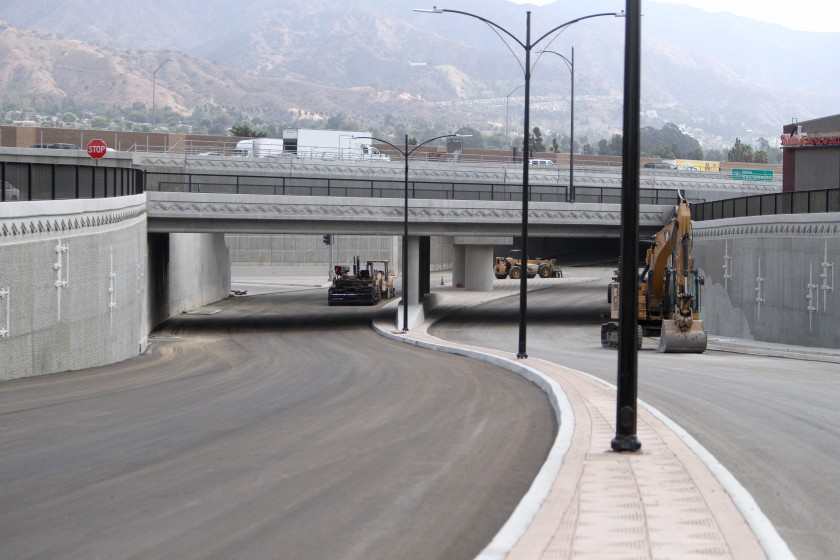bridge: (1, 143, 787, 239)
